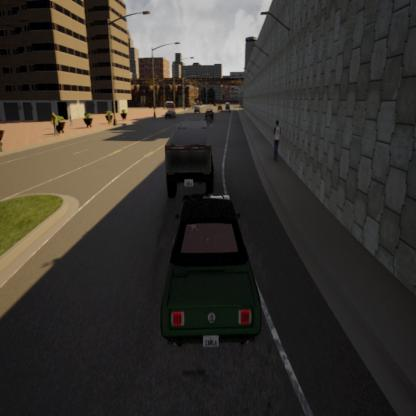Cars: (158, 191, 265, 354), (156, 119, 218, 202), (162, 96, 177, 122), (204, 106, 214, 122), (193, 105, 202, 115), (225, 99, 231, 113), (215, 104, 224, 113)
Pedestrian: (271, 115, 284, 167)
